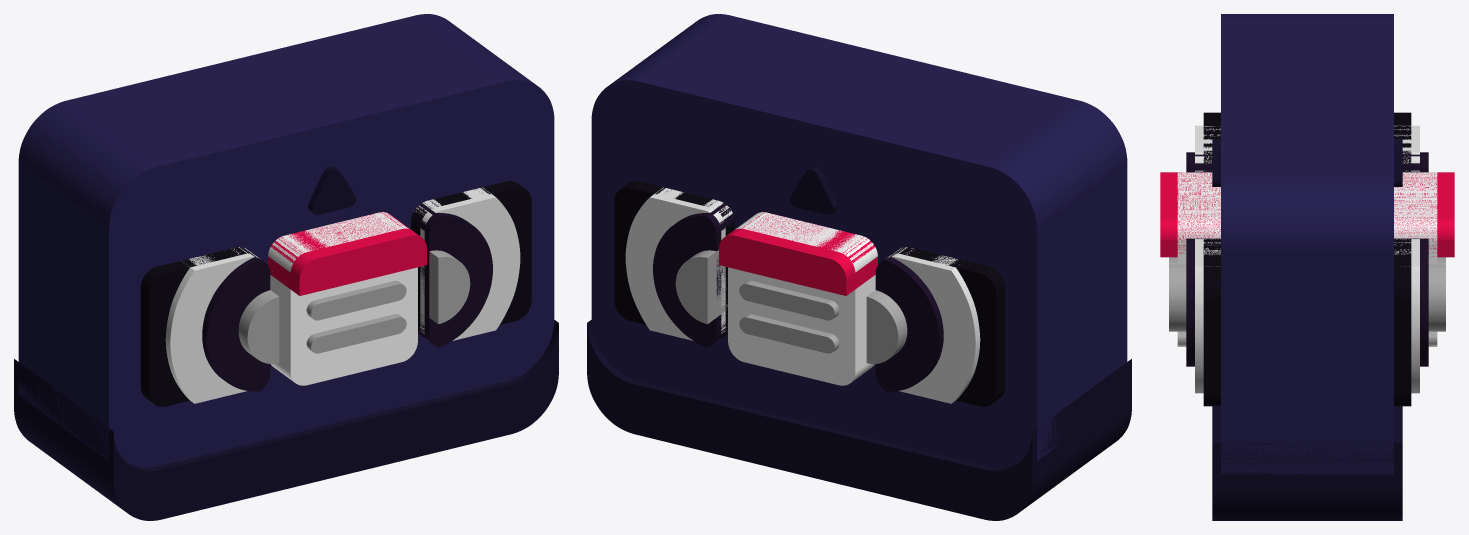
3 renders of one model, left to right at view 1: azimuth 30°, elevation 25°; view 2: azimuth 150°, elevation 25°; view 3: azimuth 270°, elevation 25°, orthographic. The views are drawn at different scales.
Parts seen in each view (by area): view 1: U+1F4FC_layer00_obj00, U+1F4FC_layer01_obj00, U+1F4FC_layer03_obj00, U+1F4FC_layer05_obj00, U+1F4FC_layer04_obj00, U+1F4FC_layer06_obj00, U+1F4FC_layer02_obj00, U+1F4FC_layer07_obj00; view 2: U+1F4FC_layer00_obj00, U+1F4FC_layer01_obj00, U+1F4FC_layer03_obj00, U+1F4FC_layer05_obj00, U+1F4FC_layer04_obj00, U+1F4FC_layer06_obj00, U+1F4FC_layer02_obj00, U+1F4FC_layer07_obj00; view 3: U+1F4FC_layer00_obj00, U+1F4FC_layer01_obj00, U+1F4FC_layer02_obj00, U+1F4FC_layer05_obj00, U+1F4FC_layer07_obj00, U+1F4FC_layer03_obj00, U+1F4FC_layer04_obj00, U+1F4FC_layer06_obj00.
Part boxes in pixels (<box>): U+1F4FC_layer00_obj00: <box>18,14,554,467</box>; U+1F4FC_layer01_obj00: <box>14,166,558,520</box>; U+1F4FC_layer03_obj00: <box>165,187,520,403</box>; U+1F4FC_layer05_obj00: <box>268,212,417,385</box>; U+1F4FC_layer04_obj00: <box>202,203,492,391</box>; U+1F4FC_layer06_obj00: <box>238,250,470,363</box>; U+1F4FC_layer02_obj00: <box>140,181,531,406</box>; U+1F4FC_layer07_obj00: <box>268,212,426,295</box>; U+1F4FC_layer00_obj00: <box>591,14,1127,467</box>; U+1F4FC_layer01_obj00: <box>587,166,1131,520</box>; U+1F4FC_layer03_obj00: <box>625,187,980,403</box>; U+1F4FC_layer05_obj00: <box>728,212,877,385</box>; U+1F4FC_layer04_obj00: <box>653,203,943,391</box>; U+1F4FC_layer06_obj00: <box>675,250,907,363</box>; U+1F4FC_layer02_obj00: <box>614,181,1005,406</box>; U+1F4FC_layer07_obj00: <box>719,212,877,295</box>; U+1F4FC_layer00_obj00: <box>1221,14,1393,474</box>; U+1F4FC_layer01_obj00: <box>1212,138,1402,520</box>; U+1F4FC_layer02_obj00: <box>1203,112,1411,406</box>; U+1F4FC_layer05_obj00: <box>1177,172,1437,346</box>; U+1F4FC_layer07_obj00: <box>1160,172,1454,257</box>; U+1F4FC_layer03_obj00: <box>1195,125,1419,393</box>; U+1F4FC_layer04_obj00: <box>1186,152,1428,366</box>; U+1F4FC_layer06_obj00: <box>1169,257,1445,331</box>.
Size of the model in its own units: 0.5678 by 0.4258 by 0.34.
